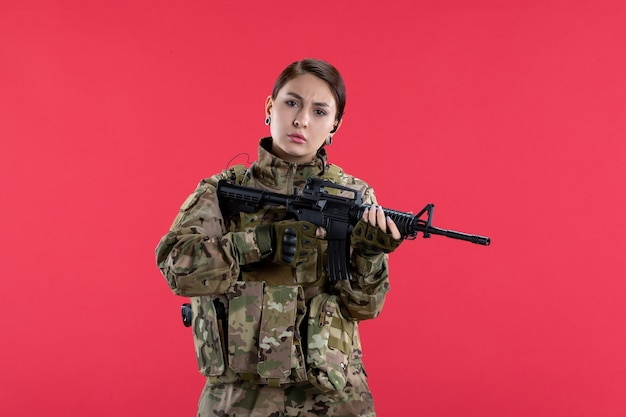gun: (217, 178, 492, 282)
